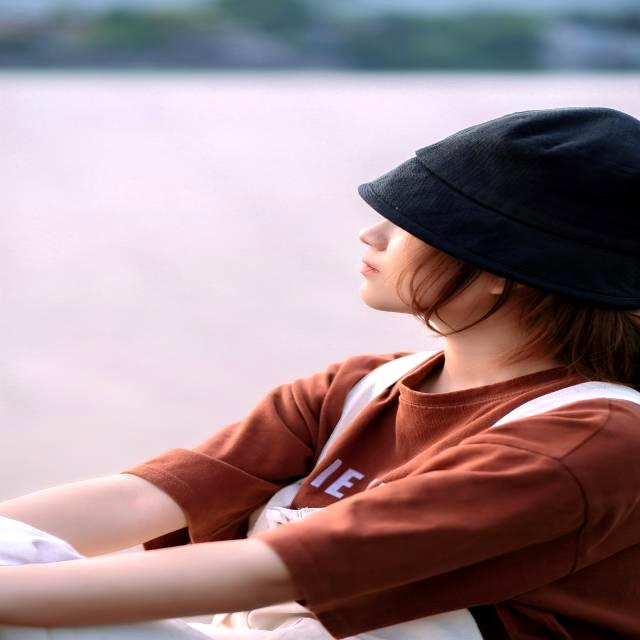no_hard_hat: (359, 108, 640, 309)
person: (0, 109, 634, 640)
